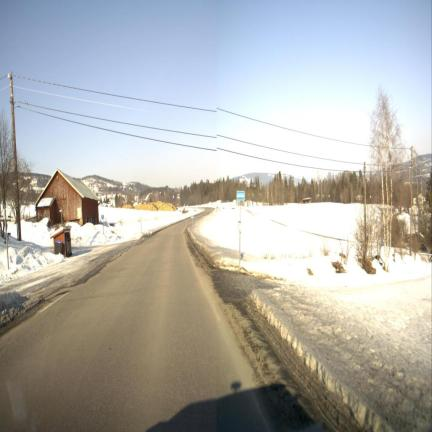Road: (0, 222, 269, 430)
